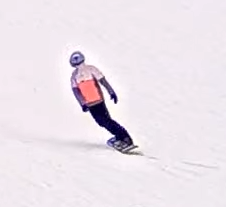snowboarder: (59, 44, 143, 161)
